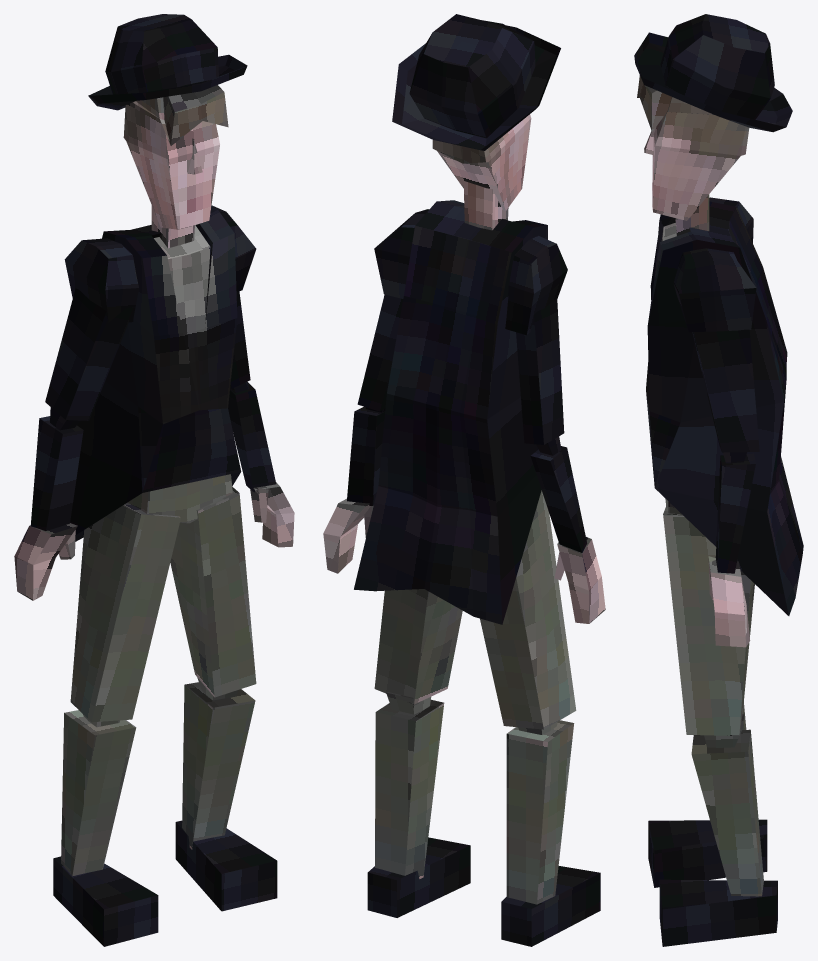
File: harker.fbx
3 renders of one model, left to right at view 1: azimuth 30°, elevation 25°; view 2: azimuth 150°, elevation 25°; view 3: azimuth 270°, elevation 25°, orthographic.
Parts seen in each view (by area): view 1: Cube.002; view 2: Cube.002; view 3: Cube.002.
Part boxes in pixels (x1,y1,x2,y2): Cube.002: (14,14,294,946); Cube.002: (323,14,605,946); Cube.002: (634,14,803,946).
Bounding box in the file's own units: 322 × 1023 × 178.
